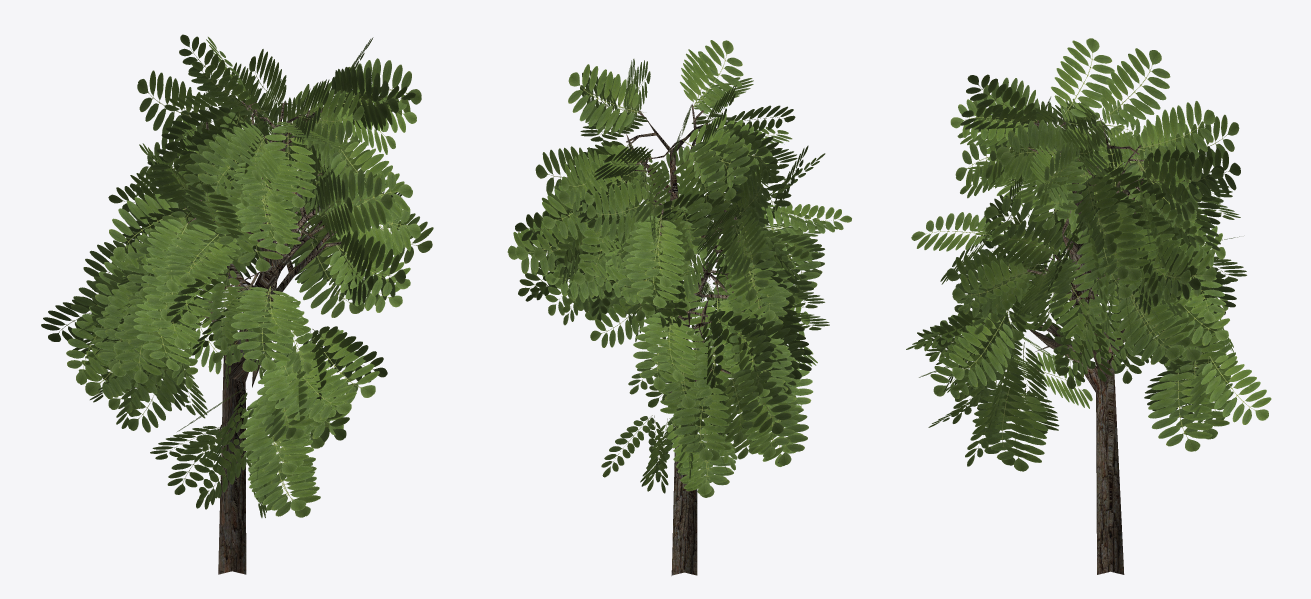
The model's file is tree0.glb.
3 renders of one model, left to right at view 1: azimuth 30°, elevation 25°; view 2: azimuth 150°, elevation 25°; view 3: azimuth 270°, elevation 25°, orthographic. The views are drawn at different scales.
Parts seen in each view (by area): view 1: _MeshInstance3D_362; view 2: _MeshInstance3D_362; view 3: _MeshInstance3D_362.
Part boxes in pixels (x1,y1,x2,y2): _MeshInstance3D_362: (41, 34, 433, 574); _MeshInstance3D_362: (507, 40, 851, 575); _MeshInstance3D_362: (906, 38, 1271, 574).
Size of the model in its own units: 5.03 by 7.29 by 4.95.
Materials: 2 (2 with a texture image).
